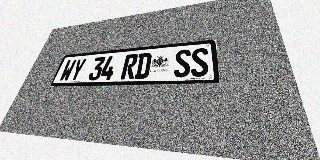3: (87, 57, 106, 80)
4: (99, 55, 118, 80)
D: (134, 52, 152, 79)
R: (120, 54, 138, 79)
S: (191, 47, 209, 77), (173, 49, 191, 77)
W: (58, 59, 77, 81)
Y: (68, 58, 87, 81)
